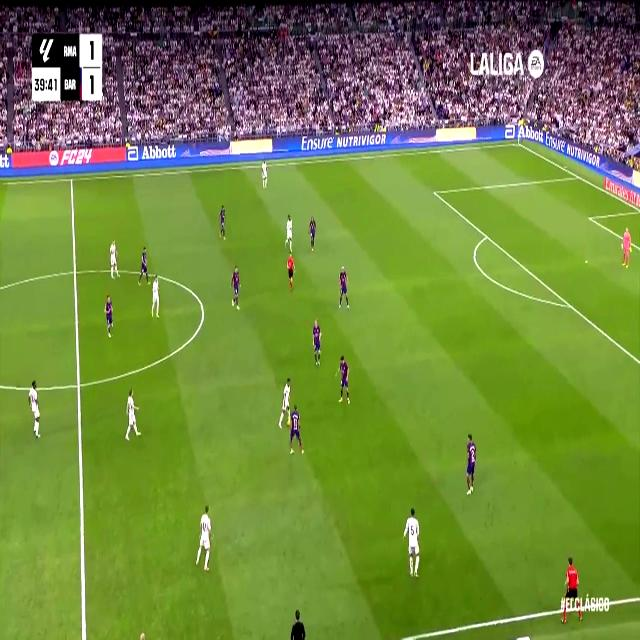bigarea_top_inner: (430, 184, 438, 198)
bottom_arc_area_intersection: (566, 297, 574, 314)
corner: (514, 138, 522, 148)
halfcircle_bottom: (73, 371, 84, 398)
halfcircle_top: (69, 260, 80, 284)
midline_top_intersection: (68, 172, 75, 186)
smallarea_top_inner: (588, 212, 592, 222)
top_arc_area_intersection: (483, 228, 490, 242)
